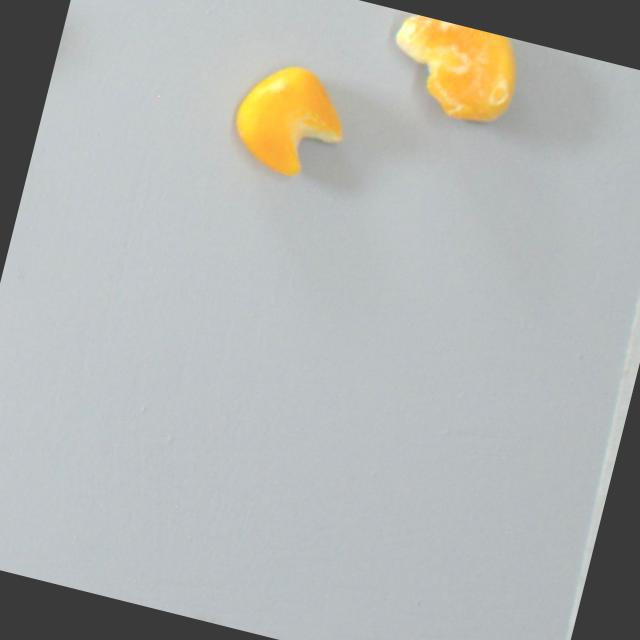no_canjicado: (223, 53, 358, 188)
pelicula: (380, 11, 529, 133)
